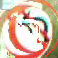Don't turn left: (2, 2, 57, 53)
